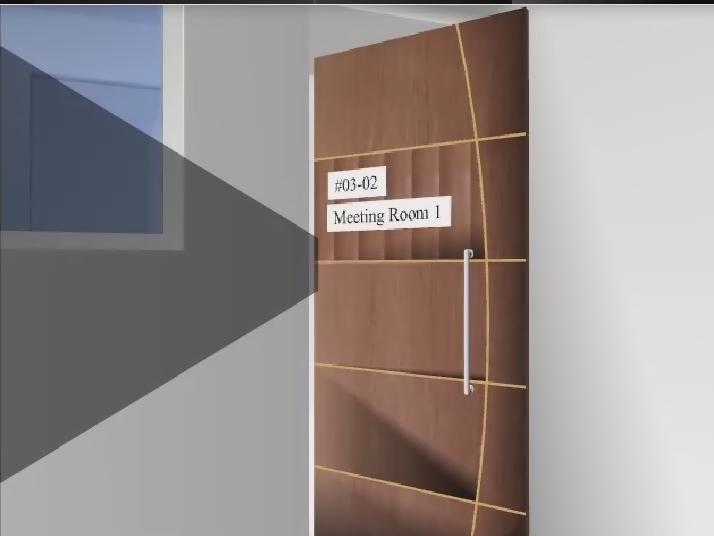door: (314, 7, 529, 536)
